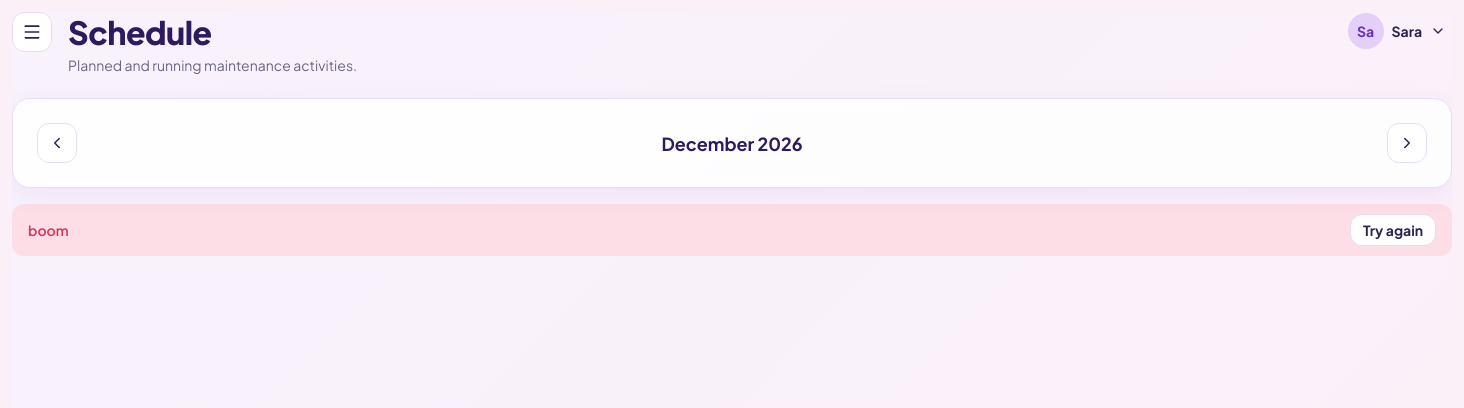
Test: Schedule page › an error offers a retry; a truncated list is announced
Expected: the message shows "boom", x1=28 y1=221 x2=68 y2=239
Click the button "Try again": coordinates (1393, 230) x1=1350 y1=214 x2=1436 y2=246
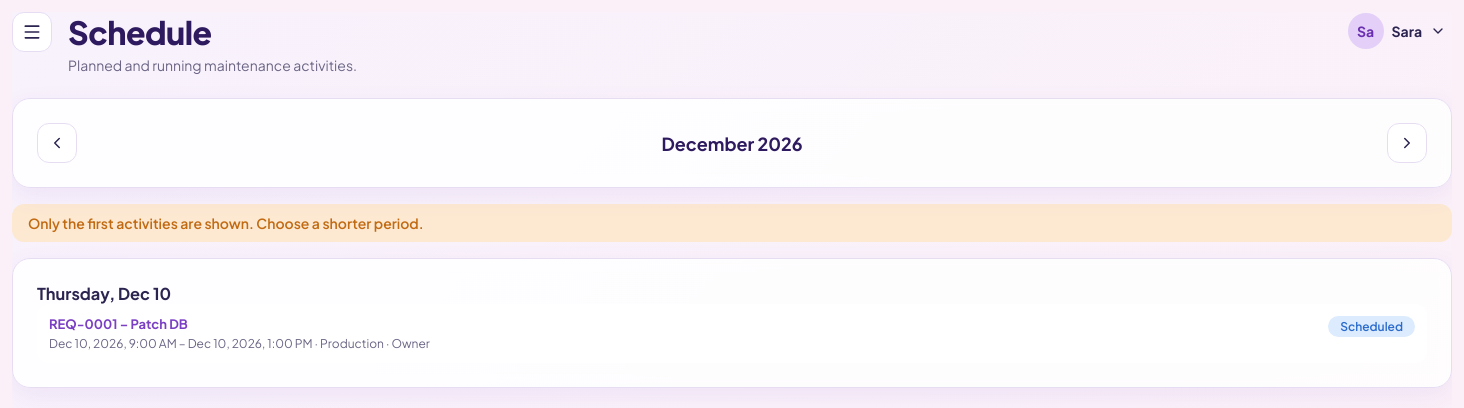
Expected: the text "Only the first activities are shown" is shown, x1=28 y1=214 x2=424 y2=232
